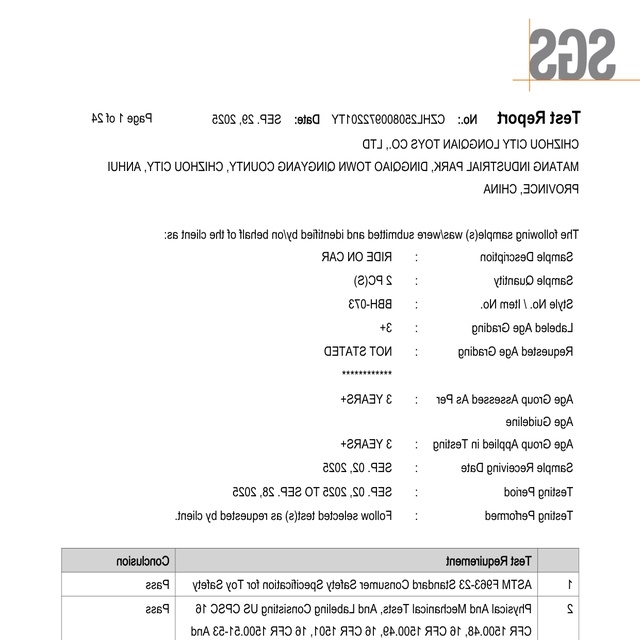sgs: (529, 28, 616, 81)
